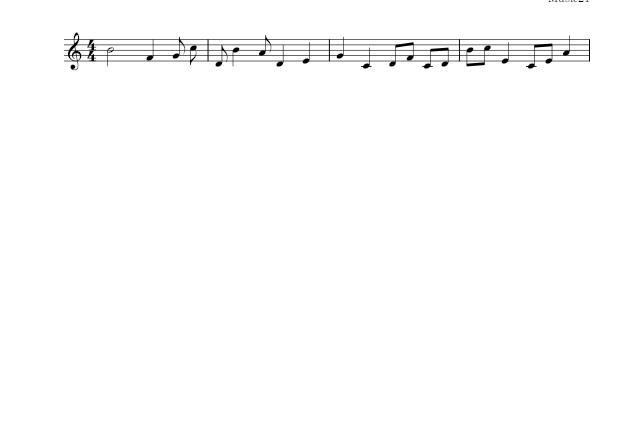Treble Clef: (64, 28, 85, 75)
